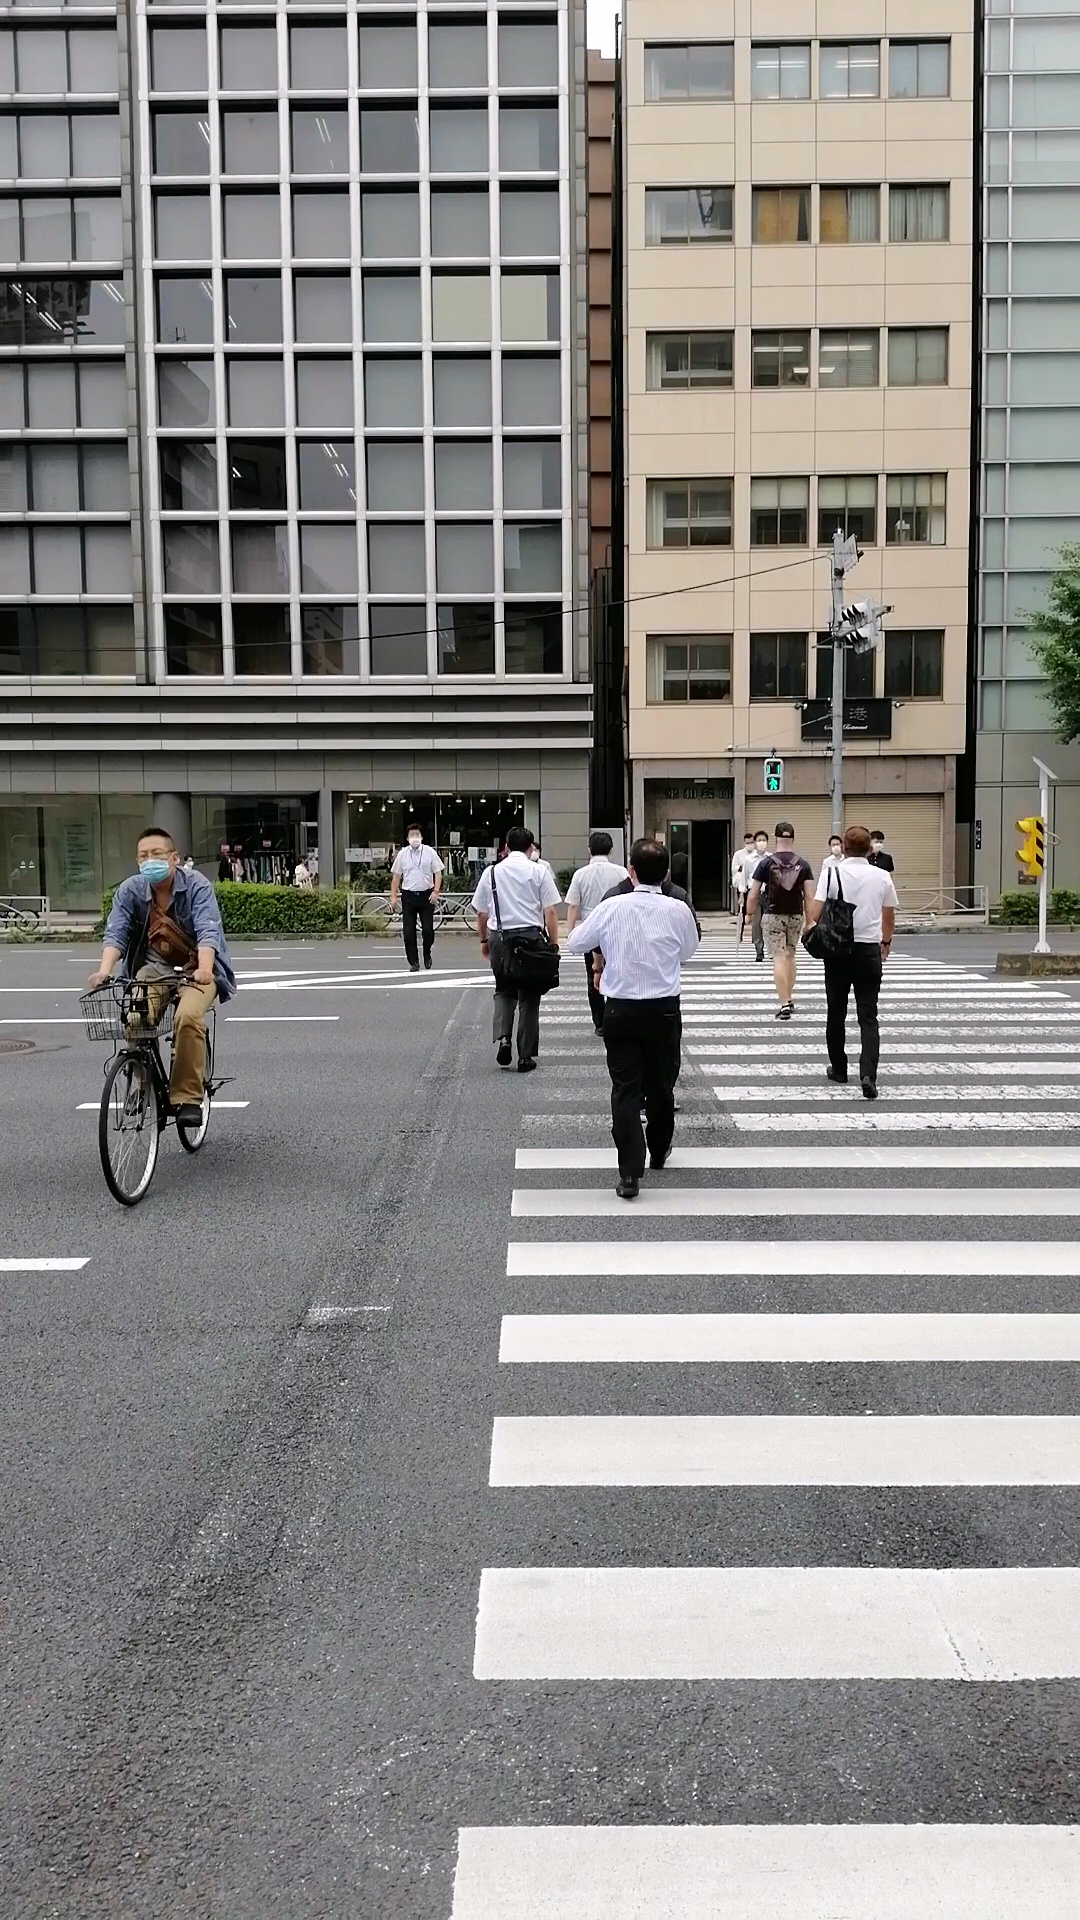green: (764, 758, 783, 793)
